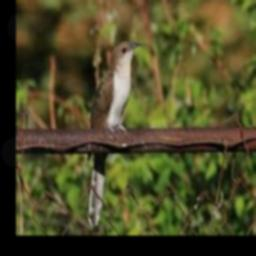Cuckoo: (88, 41, 142, 228)
